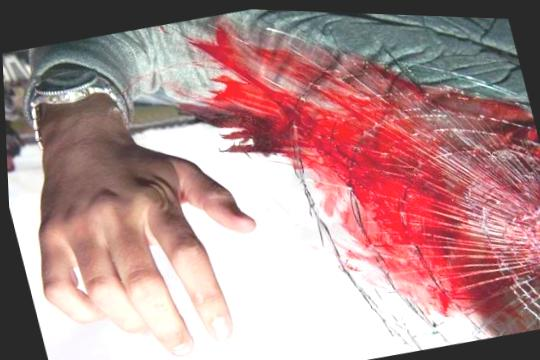Fire: (186, 22, 540, 334)
